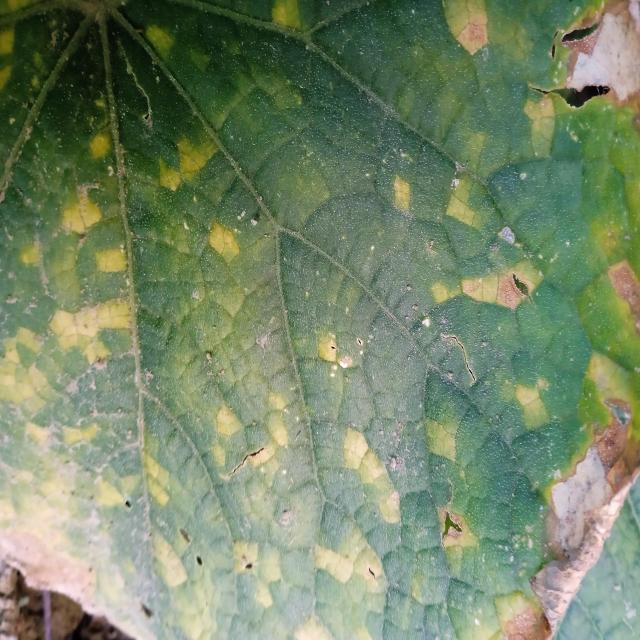cucumber_downy: (4, 1, 636, 640)
